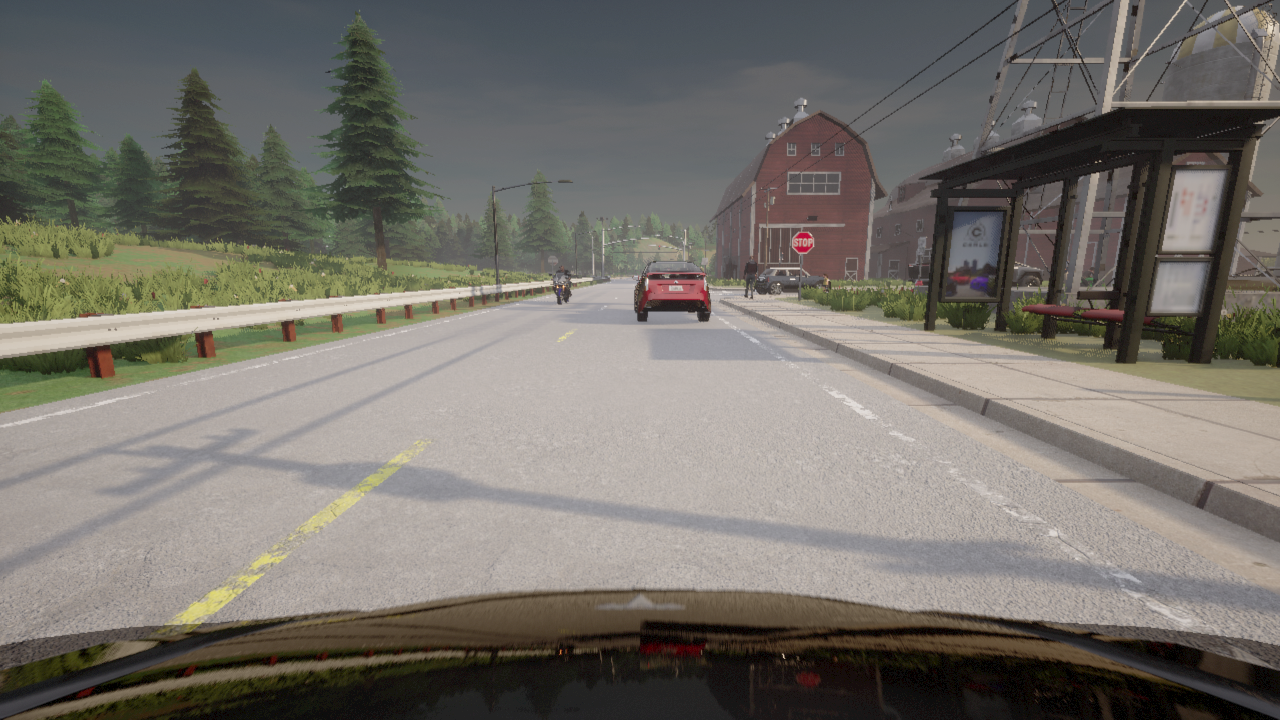cyclist: (0, 588, 1279, 719), (632, 260, 710, 321), (908, 261, 1043, 285), (754, 268, 830, 294), (1226, 267, 1279, 291), (549, 272, 571, 304)
pedestrian: (743, 255, 757, 298), (822, 273, 827, 292)
